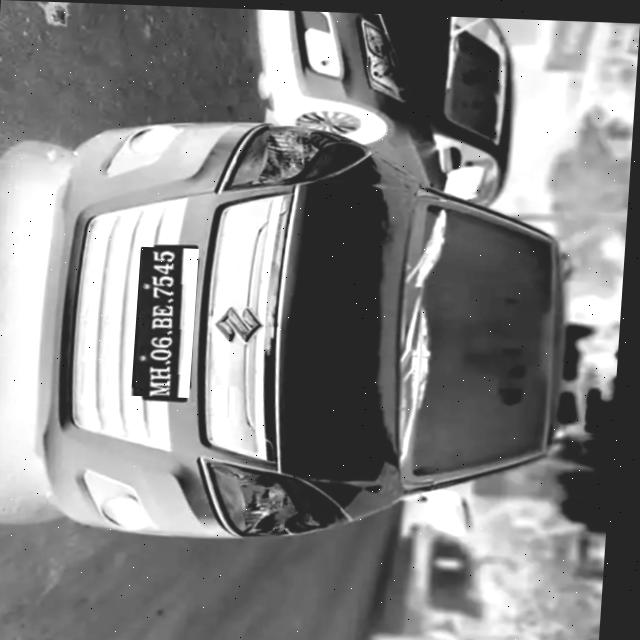Non_registered: (136, 246, 201, 396)
